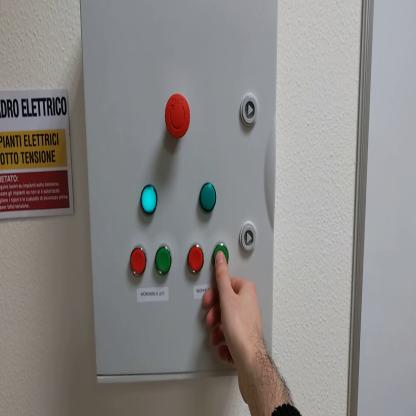hand: (204, 251, 267, 403)
left green button: (158, 245, 173, 276)
left red button: (131, 247, 148, 278)
right green button: (213, 244, 231, 266)
right red button: (188, 245, 205, 276)
